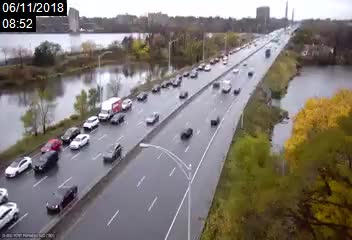personal_car: (47, 185, 79, 213), (34, 151, 59, 177), (4, 155, 31, 179), (1, 200, 19, 231), (43, 137, 63, 156), (103, 143, 121, 162), (70, 134, 89, 150), (62, 127, 80, 143), (83, 115, 98, 132), (145, 112, 159, 125), (180, 127, 193, 140), (222, 79, 235, 92), (120, 98, 132, 111), (1, 184, 9, 203), (136, 90, 147, 102), (176, 89, 189, 99), (152, 83, 160, 95), (161, 80, 170, 89), (210, 115, 219, 124), (188, 70, 198, 78), (170, 79, 181, 86), (233, 87, 241, 95), (212, 80, 220, 88), (232, 67, 240, 75), (203, 65, 211, 72), (183, 70, 191, 77), (248, 70, 255, 77), (196, 64, 203, 70)
truck: (99, 97, 122, 122)
